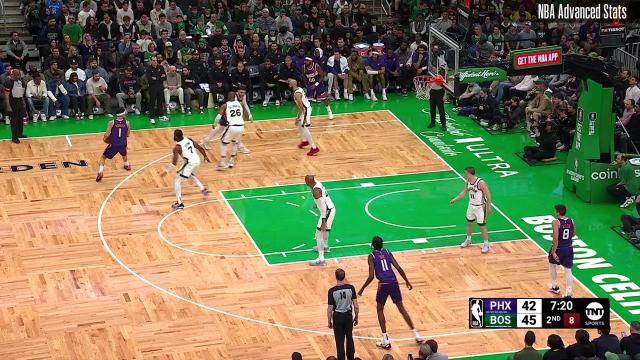3_dx: (613, 311, 627, 323)
3_sx: (394, 116, 404, 128)
b_sx: (382, 106, 394, 114)
free_adx: (261, 260, 275, 272)
free_asx: (213, 188, 227, 196)
free_bdx: (523, 233, 535, 245)
free_bsx: (447, 164, 459, 176)
mid_sx: (61, 130, 70, 140)
referee: (325, 268, 359, 358), (6, 68, 28, 144), (423, 71, 449, 130)
team: (357, 236, 425, 348), (203, 86, 253, 154), (546, 204, 578, 298), (96, 109, 130, 182), (301, 57, 335, 121)
team1: (162, 130, 212, 210), (451, 165, 493, 253), (304, 175, 336, 265), (288, 80, 322, 158), (213, 91, 247, 169)
timer: (548, 298, 578, 312)
